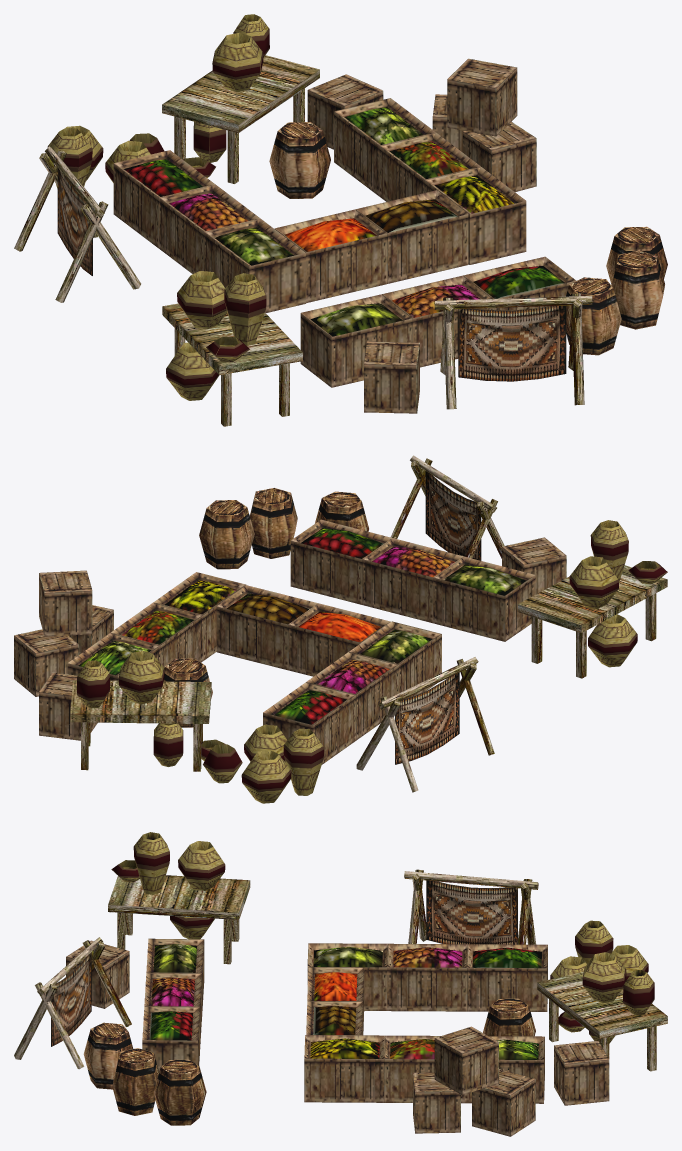
Rendered from iber_market_props_01.dae.
The picture shows the model from 3 angles, top to bottom: view 1: azimuth 30°, elevation 25°; view 2: azimuth 150°, elevation 25°; view 3: azimuth 270°, elevation 25°; orthographic projection. The views are drawn at different scales.
Parts seen in each view (by area): view 1: Object104-Pivot; view 2: Object104-Pivot; view 3: Object104-Pivot.
Boxes of the visible parts, x1=… form: Object104-Pivot: x1=14, y1=14, x2=667, y2=426; Object104-Pivot: x1=14, y1=455, x2=667, y2=803; Object104-Pivot: x1=14, y1=832, x2=667, y2=1136.
Size of the model in its own units: 16.32 by 21.37 by 4.17.
